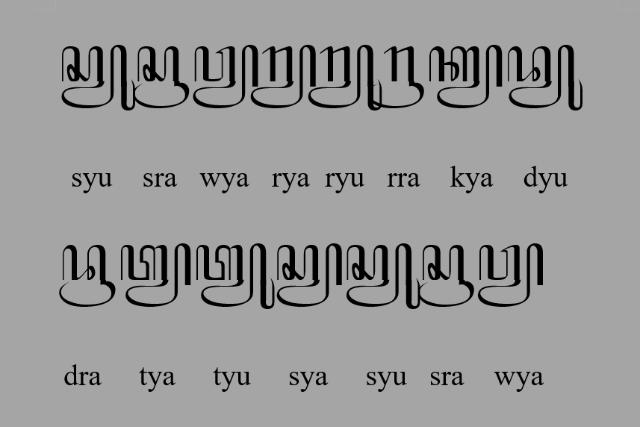dr: (58, 244, 115, 308)
dyu: (506, 44, 584, 112)
ky: (429, 45, 503, 109)
rr: (370, 45, 424, 107)
ry: (251, 44, 317, 110)
ryu: (308, 44, 382, 112)
sr: (419, 244, 475, 308), (134, 46, 190, 108)
sy: (277, 243, 343, 307)
syu: (61, 44, 136, 112), (346, 243, 420, 310)
ty: (120, 243, 192, 308)
tyu: (196, 242, 276, 310)
wy: (192, 44, 260, 110), (478, 243, 544, 308)
